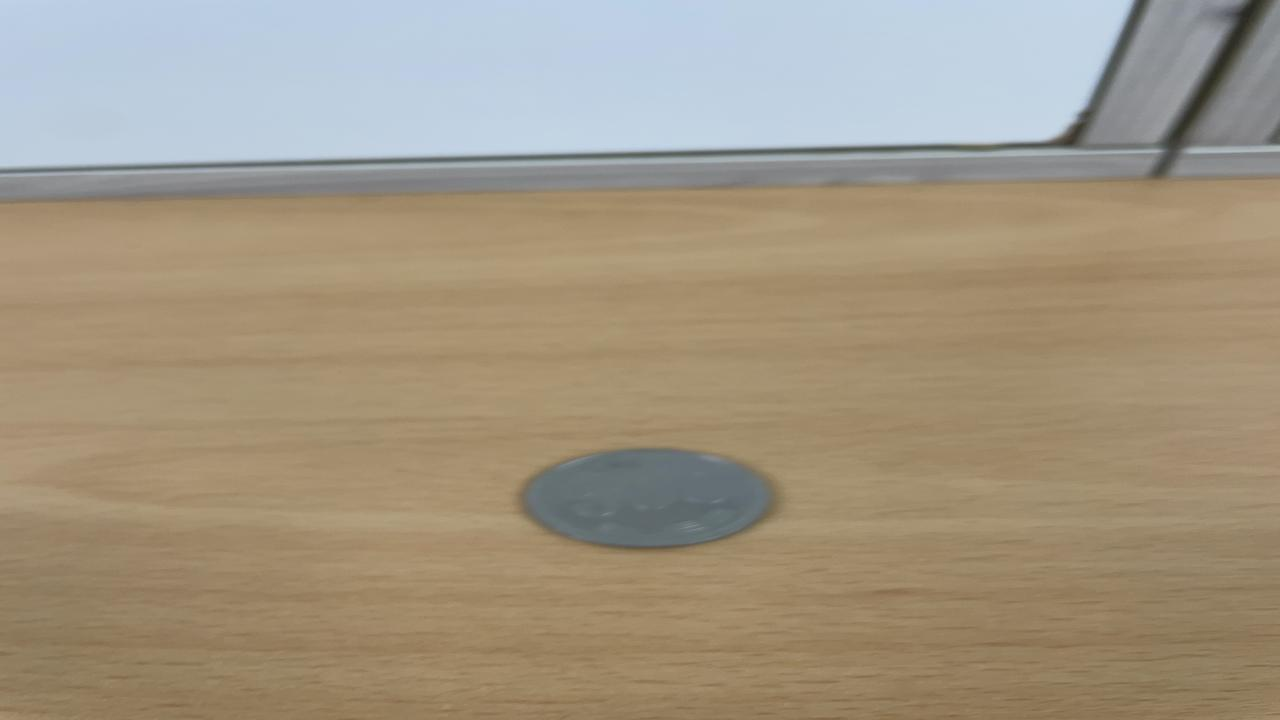coin: (516, 447, 776, 549)
